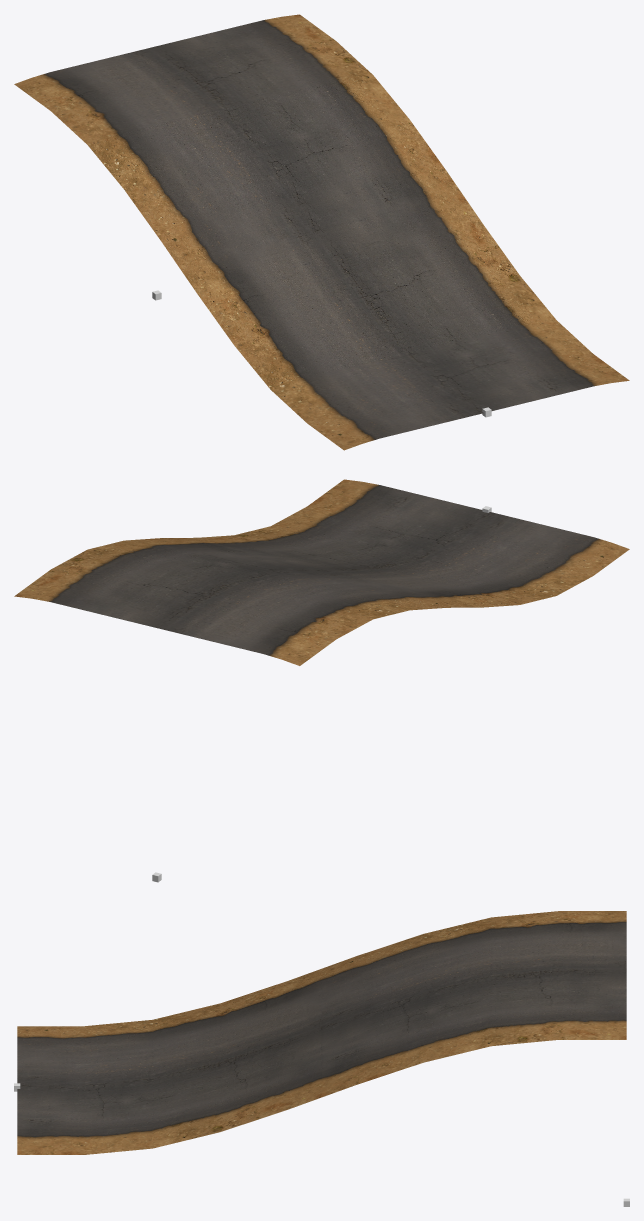
The model's file is roadSlope.up2.fbx.
The picture shows the model from 3 angles, top to bottom: view 1: azimuth 30°, elevation 25°; view 2: azimuth 150°, elevation 25°; view 3: azimuth 270°, elevation 25°; orthographic projection. The views are drawn at different scales.
Visible parts, largest first — view 1: MESH roadSlope.up2; view 2: MESH roadSlope.up2; view 3: MESH roadSlope.up2.
Boxes of the visible parts, x1,y1,x2,y2 form: MESH roadSlope.up2: (14,14,629,450); MESH roadSlope.up2: (14,479,629,665); MESH roadSlope.up2: (17,911,626,1154).
Size of what is drawn, in the model's own units: 2400 by 2025 by 4850.
